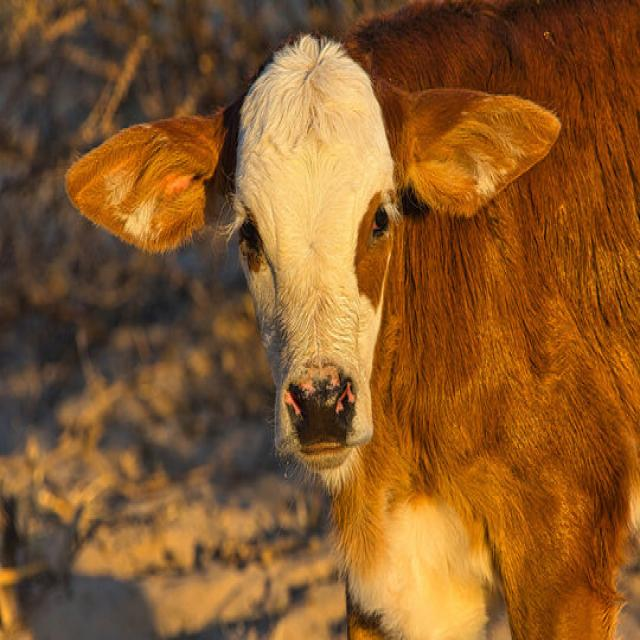cowFace: (59, 27, 562, 500)
